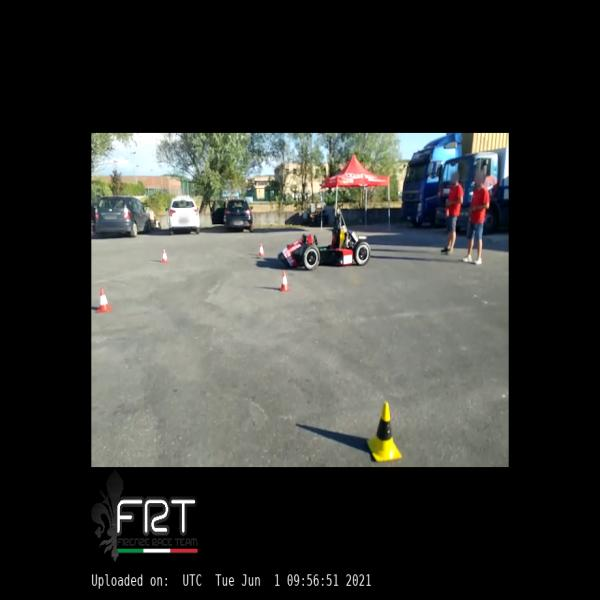orange_cone: (97, 289, 112, 312), (278, 272, 290, 290), (160, 249, 169, 262), (258, 243, 265, 256)
yellow_cone: (367, 401, 402, 462)
